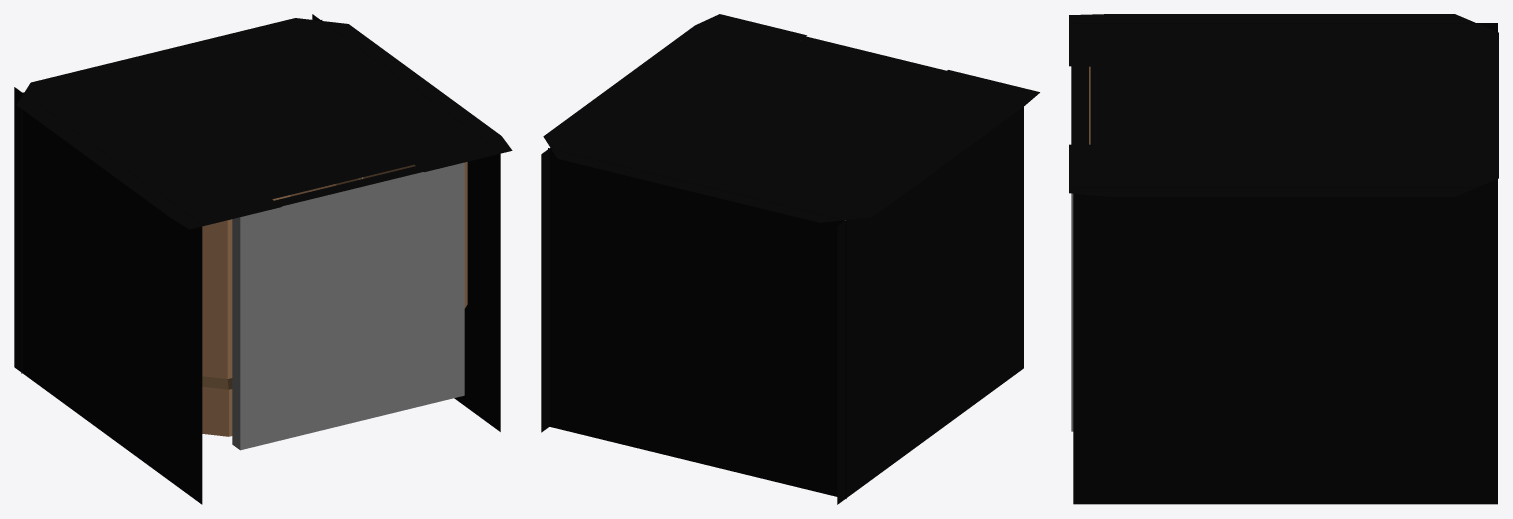
File: Elevator.fbx
3 renders of one model, left to right at view 1: azimuth 30°, elevation 25°; view 2: azimuth 150°, elevation 25°; view 3: azimuth 270°, elevation 25°, orthographic. The views are drawn at different scales.
Visible parts, largest first — view 1: Plane007, Plane010, Box002, Box003, Object001, Plane009, Box004, Plane002; view 2: Plane002, Plane007, Plane010, Object001, Plane009, Box003, Box002; view 3: Plane009, Plane010, Object001, Box003, Box002, Plane007.
Part boxes in pixels (<box>): Plane007: <box>14,87,202,504</box>; Plane010: <box>44,29,473,210</box>; Box002: <box>232,183,352,450</box>; Box003: <box>344,162,464,422</box>; Object001: <box>16,18,512,229</box>; Plane009: <box>312,14,500,431</box>; Box004: <box>202,162,467,436</box>; Plane002: <box>21,20,322,373</box>; Plane002: <box>548,148,846,498</box>; Plane007: <box>837,90,1023,504</box>; Plane010: <box>571,30,996,210</box>; Object001: <box>543,14,1039,222</box>; Plane009: <box>541,20,724,432</box>; Box003: <box>799,36,875,58</box>; Box002: <box>870,53,946,75</box>; Plane009: <box>1073,187,1497,504</box>; Plane010: <box>1090,23,1473,185</box>; Object001: <box>1069,14,1498,196</box>; Box003: <box>1071,106,1088,431</box>; Box002: <box>1071,66,1088,105</box>; Plane007: <box>1073,23,1497,187</box>.
Bounding box in the file's own units: 146 × 145 × 118.
